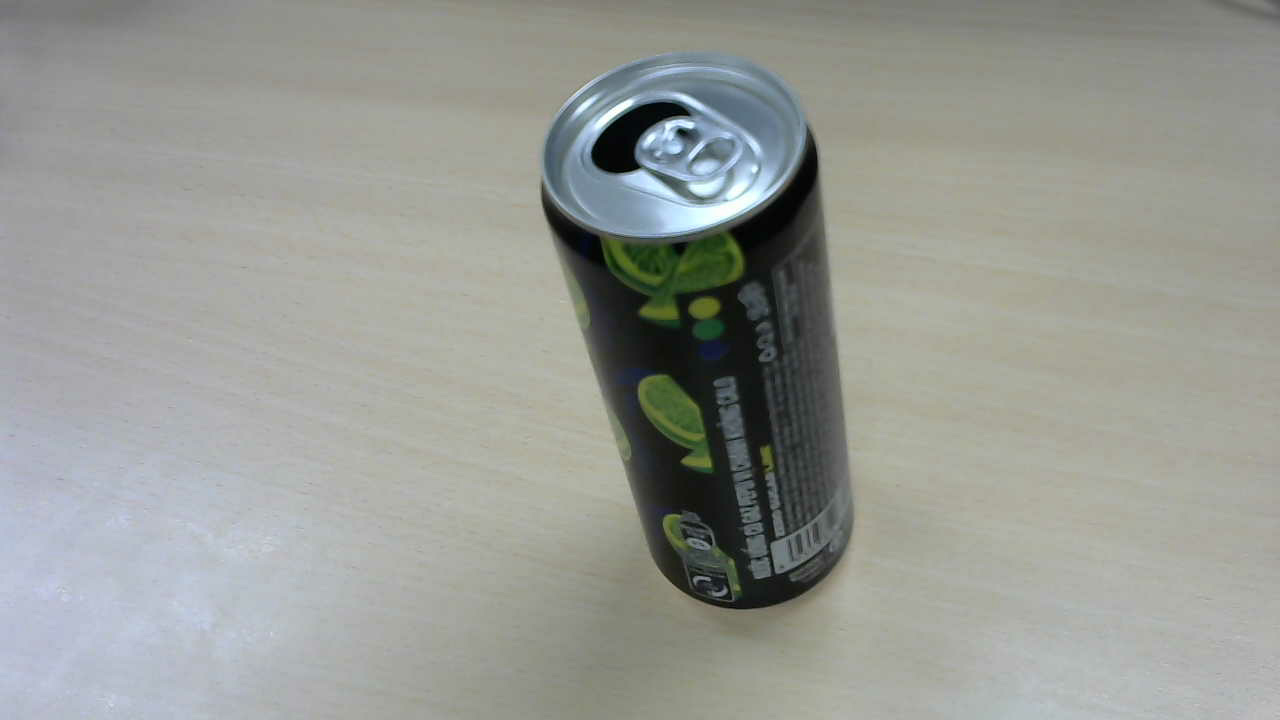Pepsi: (543, 54, 861, 613)
